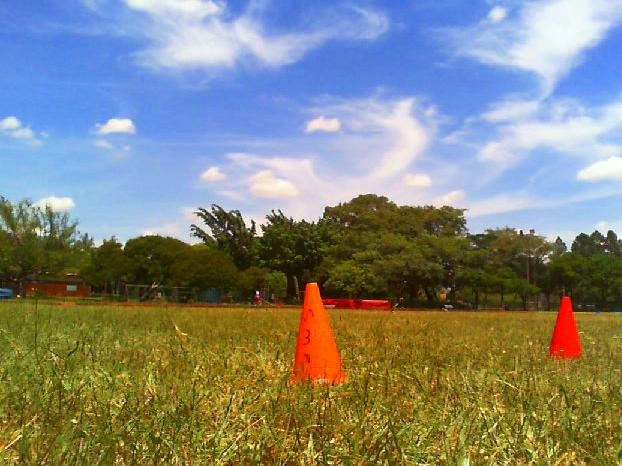0 cone: (290, 283, 346, 386), (548, 297, 584, 360)
